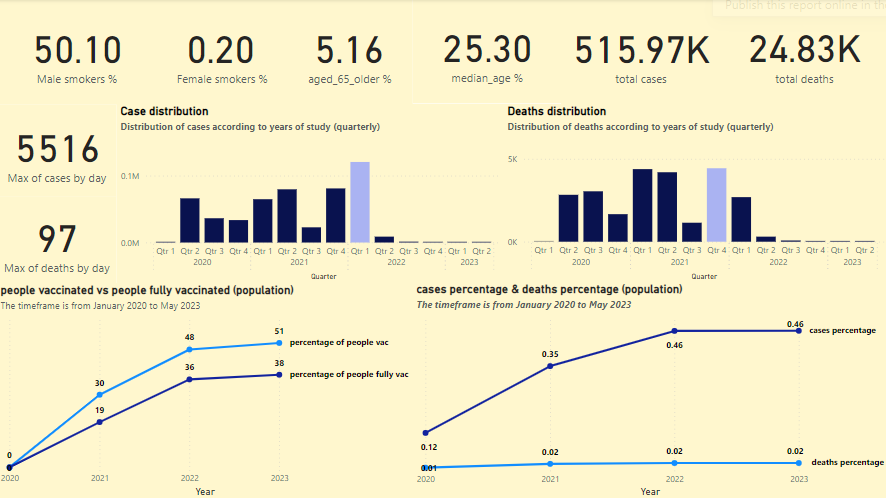

The dashboard page shown, as its layout file describes it:
{"tool":"powerbi","page":{"name":"covid_in_Egypt","canvas":[1280,720],"ordinal":0},"visuals":[{"type":"lineChart","title":"people vaccinated vs people fully vaccinated (population)","fields":{"Category":["covid_in_egypt._date.Variation.Date Hierarchy.Year","covid_in_egypt._date.Variation.Date Hierarchy.Quarter","covid_in_egypt._date.Variation.Date Hierarchy.Month","covid_in_egypt._date.Variation.Date Hierarchy.Day"],"Y":["Max(covid_in_egypt.percentage_of_peo_vac_by_popu)","Max(covid_in_egypt.percentage_of_peo_fully_vac)"]},"box":[0,407.9,597.9,312.2],"z":0},{"type":"lineChart","title":" cases percentage &  deaths percentage (population)","fields":{"Y":["Max(covid_in_egypt.death_persentage_by_popu)","Max(covid_in_egypt.case_persentage_by_popu)"],"Category":["covid_in_egypt._date.Variation.Date Hierarchy.Year"]},"box":[597.9,406.3,682.1,313.8],"z":1000},{"type":"card","fields":{"Values":["Max(covid_in_egypt.median_age)"]},"box":[597.9,0,213.1,150.3],"z":2000},{"type":"card","fields":{"Values":["Max(covid_in_egypt.aged_65_older)"]},"box":[412.9,0,185,151.9],"z":3000},{"type":"card","fields":{"Values":["Max(covid_in_egypt.M_smokers_persentage)"]},"box":[0,0,229.6,151.9],"z":4000},{"type":"card","fields":{"Values":["Max(covid_in_egypt.New_deaths)"]},"box":[0,284.1,171.8,125.5],"z":5000},{"type":"card","fields":{"Values":["Max(covid_in_egypt.New_cases)"]},"box":[0,151.9,171.8,132.1],"z":6000},{"type":"card","title":"total cases","fields":{"Values":["Max(covid_in_egypt.T_country_cases)"]},"box":[810.9,0,229.6,151.9],"z":7000},{"type":"card","fields":{"Values":["Max(covid_in_egypt.T_country_deaths)"]},"box":[1040,0,240,151],"z":8000},{"type":"card","fields":{"Values":["Max(covid_in_egypt.F_smokers_persentage)"]},"box":[229.6,0,183.3,151.9],"z":9000},{"type":"clusteredColumnChart","title":"Case distribution","fields":{"Y":["Sum(covid_in_egypt.New_cases)"],"Category":["covid_in_egypt._date.Variation.Date Hierarchy.Year","covid_in_egypt._date.Variation.Date Hierarchy.Quarter"]},"box":[171.8,150.3,556.6,259.3],"z":11000},{"type":"clusteredColumnChart","title":"Deaths distribution","fields":{"Y":["Sum(covid_in_egypt.New_deaths)"],"Category":["covid_in_egypt._date.Variation.Date Hierarchy.Year","covid_in_egypt._date.Variation.Date Hierarchy.Quarter"]},"box":[728.4,150.3,551.6,257.7],"z":12000}]}

Visuals, with their boxes in screenshot pixels (x1, y1, x2, y2), scaled from the page's 1280x720 canvas onto the 886x498 screenshot:
"people vaccinated vs people fully vaccinated (population)" lineChart: 0, 282, 414, 497
" cases percentage &  deaths percentage (population)" lineChart: 414, 281, 885, 497
card - Max(covid_in_egypt.median_age): 414, 0, 561, 104
card - Max(covid_in_egypt.aged_65_older): 286, 0, 414, 105
card - Max(covid_in_egypt.M_smokers_persentage): 0, 0, 159, 105
card - Max(covid_in_egypt.New_deaths): 0, 197, 119, 283
card - Max(covid_in_egypt.New_cases): 0, 105, 119, 196
"total cases" card: 561, 0, 720, 105
card - Max(covid_in_egypt.T_country_deaths): 720, 0, 885, 104
card - Max(covid_in_egypt.F_smokers_persentage): 159, 0, 286, 105
"Case distribution" clusteredColumnChart: 119, 104, 504, 283
"Deaths distribution" clusteredColumnChart: 504, 104, 885, 282
